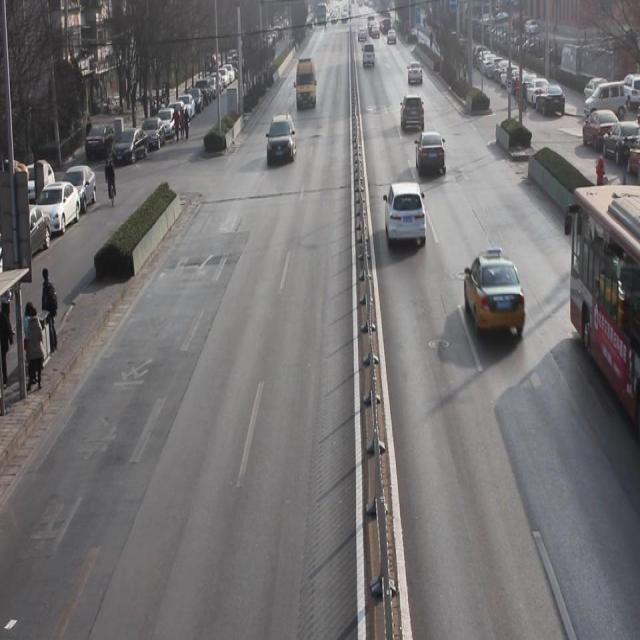car: (462, 252, 526, 342), (383, 181, 430, 248), (266, 109, 298, 165), (415, 128, 448, 174), (400, 91, 428, 133), (408, 59, 426, 94)
truck: (294, 55, 318, 114), (361, 41, 378, 72)
van: (570, 182, 640, 427)
